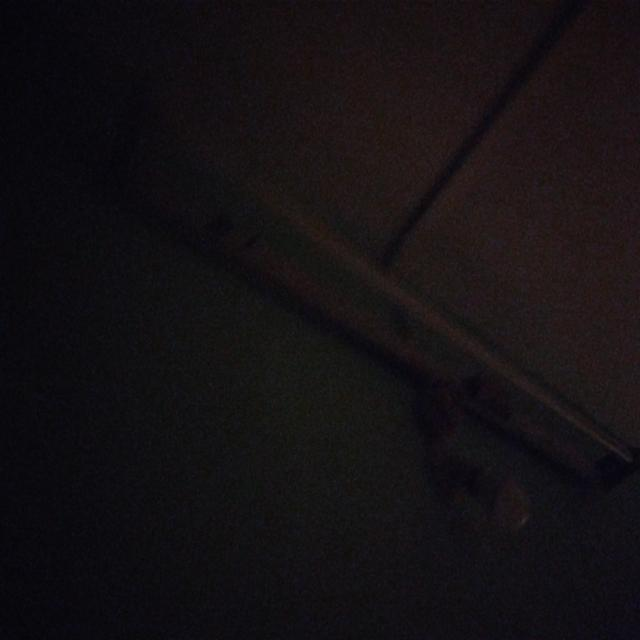tubelight_off: (90, 81, 640, 495)
